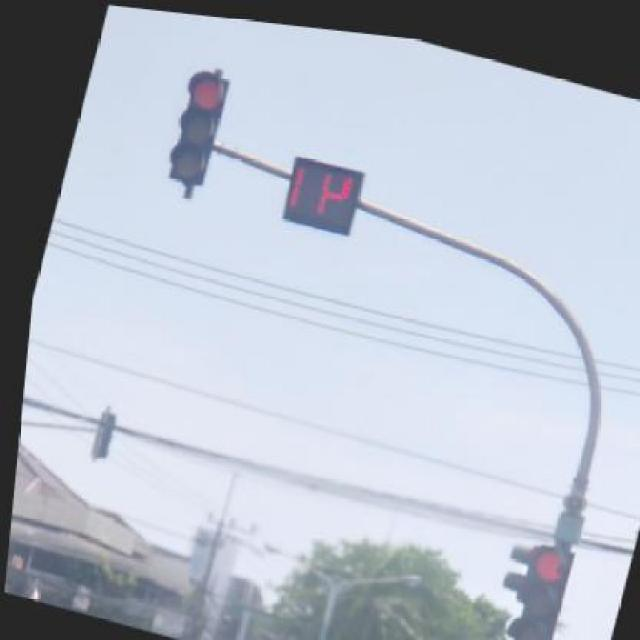red_light: (168, 68, 227, 196), (502, 544, 572, 638)
